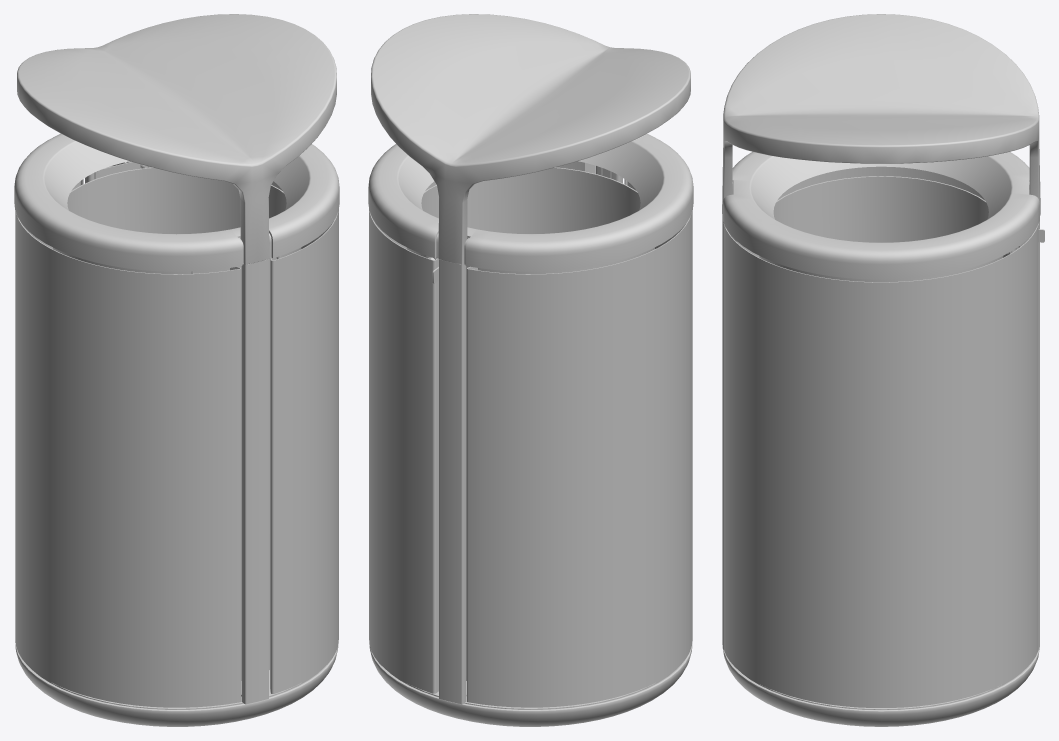
File: Tonyo_Receptacle_36_Gallon.glb
The picture shows the model from 3 angles, left to right: view 1: azimuth 30°, elevation 25°; view 2: azimuth 150°, elevation 25°; view 3: azimuth 270°, elevation 25°; orthographic projection.
Visible parts, largest first — view 1: Tonyo_Receptacle_36_Gallon; view 2: Tonyo_Receptacle_36_Gallon; view 3: Tonyo_Receptacle_36_Gallon.
Boxes of the visible parts, x1,y1,x2,y2 form: Tonyo_Receptacle_36_Gallon: (14, 14, 339, 726); Tonyo_Receptacle_36_Gallon: (368, 14, 693, 726); Tonyo_Receptacle_36_Gallon: (722, 14, 1044, 726).
Size of the model in its own units: 0.5878 by 1.2 by 0.5937.
Materials: 1 (1 with a texture image).
